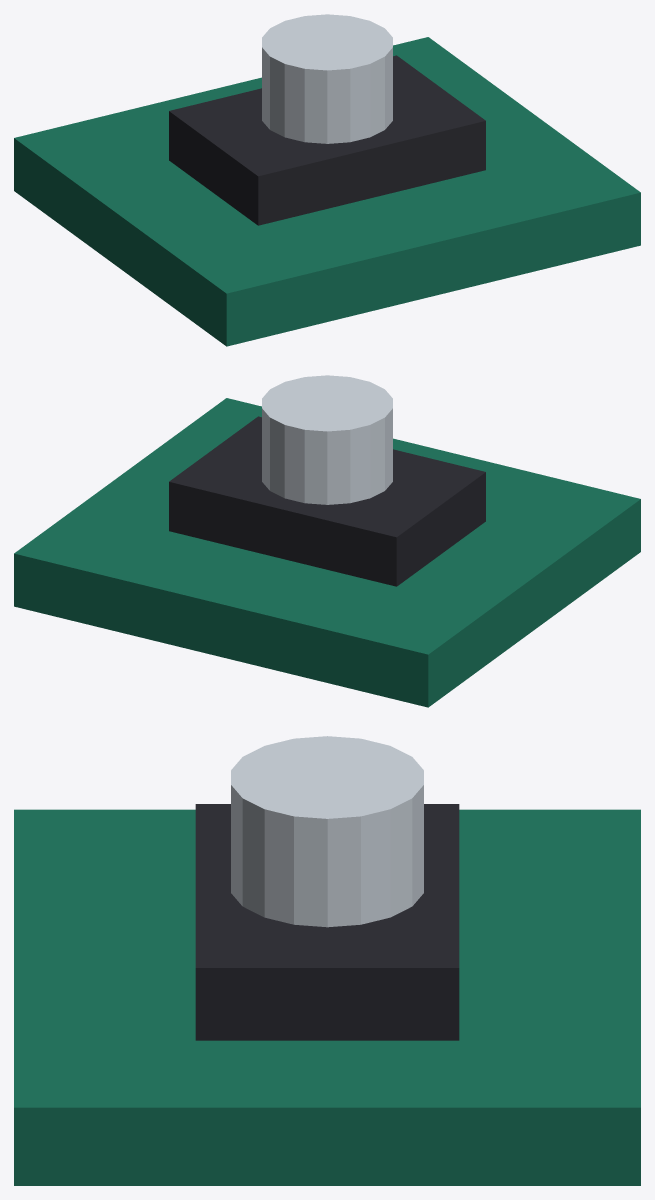
Rendered from 35_L96_S1_Sensor.glb.
3 views of the same model, one above another, from view 1: azimuth 30°, elevation 25°; view 2: azimuth 150°, elevation 25°; view 3: azimuth 270°, elevation 25° (orthographic). The views are drawn at different scales.
Visible parts, largest first — view 1: S1_000_Mini_Module_PCB, S1_001_Sensor_Interface_Package, S1_006_RTD_Sensor_Can; view 2: S1_000_Mini_Module_PCB, S1_001_Sensor_Interface_Package, S1_006_RTD_Sensor_Can; view 3: S1_000_Mini_Module_PCB, S1_001_Sensor_Interface_Package, S1_006_RTD_Sensor_Can.
Part boxes in pixels (<box>): S1_000_Mini_Module_PCB: <box>14,37,640,346</box>; S1_001_Sensor_Interface_Package: <box>169,55,485,225</box>; S1_006_RTD_Sensor_Can: <box>262,14,392,143</box>; S1_000_Mini_Module_PCB: <box>14,398,640,707</box>; S1_001_Sensor_Interface_Package: <box>169,416,485,586</box>; S1_006_RTD_Sensor_Can: <box>262,375,392,504</box>; S1_000_Mini_Module_PCB: <box>14,809,640,1185</box>; S1_001_Sensor_Interface_Package: <box>195,804,459,1040</box>; S1_006_RTD_Sensor_Can: <box>231,736,423,927</box>.
Bounding box in the file's own units: 0.009 × 0.00407 × 0.008.
